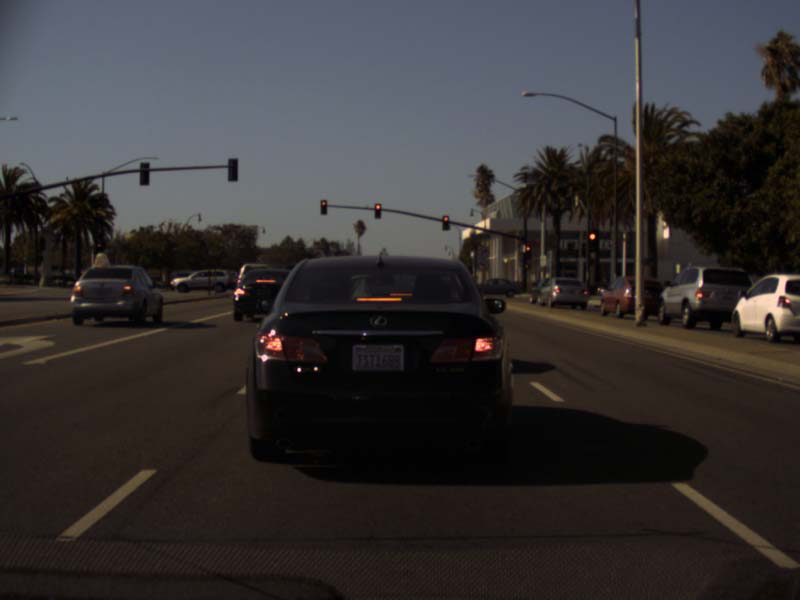Red: (587, 231, 597, 258), (320, 199, 327, 215), (442, 214, 449, 230), (374, 203, 380, 218), (525, 245, 531, 259), (96, 242, 102, 255)
